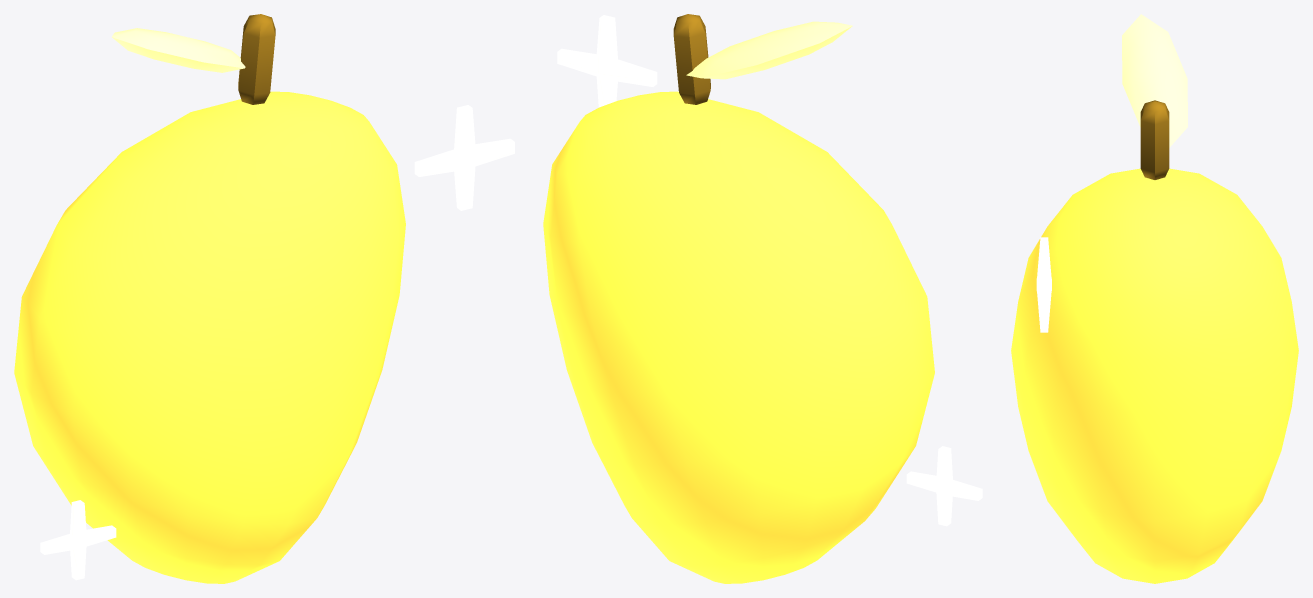
File: P07_GoldenMango.fbx
3 views of the same model, side by side, from view 1: azimuth 30°, elevation 25°; view 2: azimuth 150°, elevation 25°; view 3: azimuth 270°, elevation 25° (orthographic). The views are drawn at different scales.
Visible parts, largest first — view 1: P07_GoldenMango; view 2: P07_GoldenMango; view 3: P07_GoldenMango.
Boxes of the visible parts, x1,y1,x2,y2 form: P07_GoldenMango: [14, 14, 514, 583]; P07_GoldenMango: [543, 14, 982, 583]; P07_GoldenMango: [1011, 14, 1298, 583].
Size of the model in its own units: 0.4188 by 0.5118 by 0.26.
